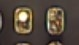MISSING: (9, 4, 36, 38), (41, 4, 68, 38)
